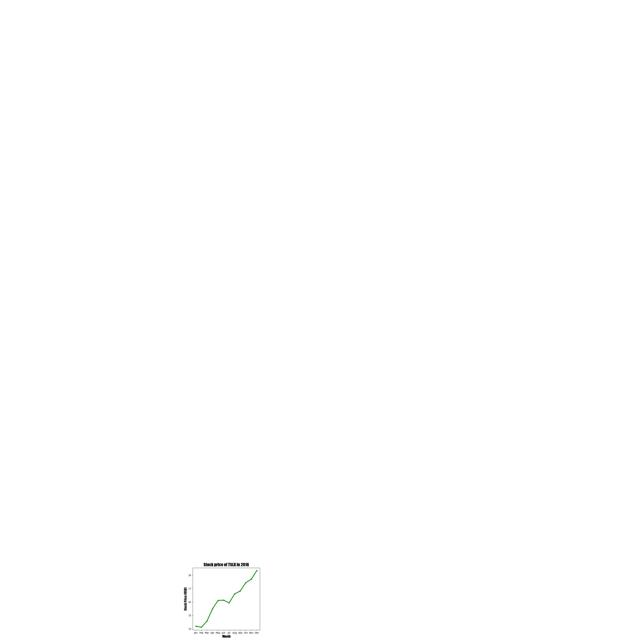Graph: (171, 558, 279, 639)
